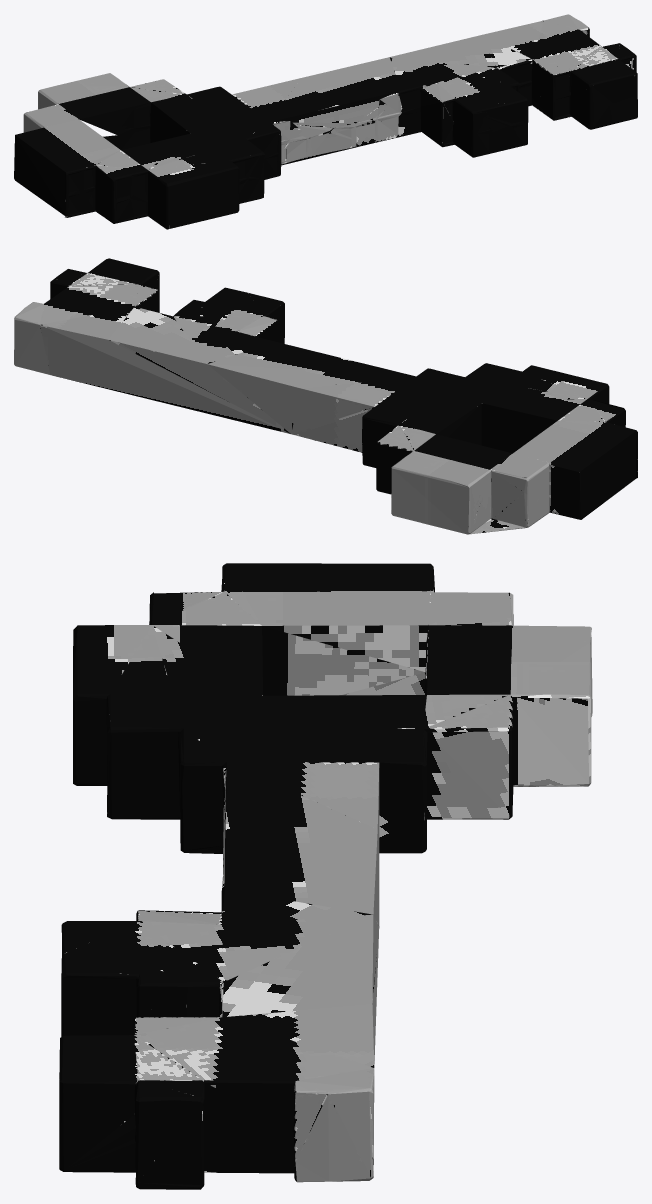
3 renders of one model, top to bottom at view 1: azimuth 30°, elevation 25°; view 2: azimuth 150°, elevation 25°; view 3: azimuth 270°, elevation 25°, orthographic. The views are drawn at different scales.
Parts seen in each view (by area): view 1: OBJ101; view 2: OBJ101; view 3: OBJ101.
Part boxes in pixels (bbox=[...]): OBJ101: bbox=[14, 14, 637, 229]; OBJ101: bbox=[14, 258, 637, 534]; OBJ101: bbox=[59, 563, 592, 1189].
Size of the model in its own units: 0.2087 by 0.0167 by 0.0877.
Materials: 1 (1 with a texture image).
